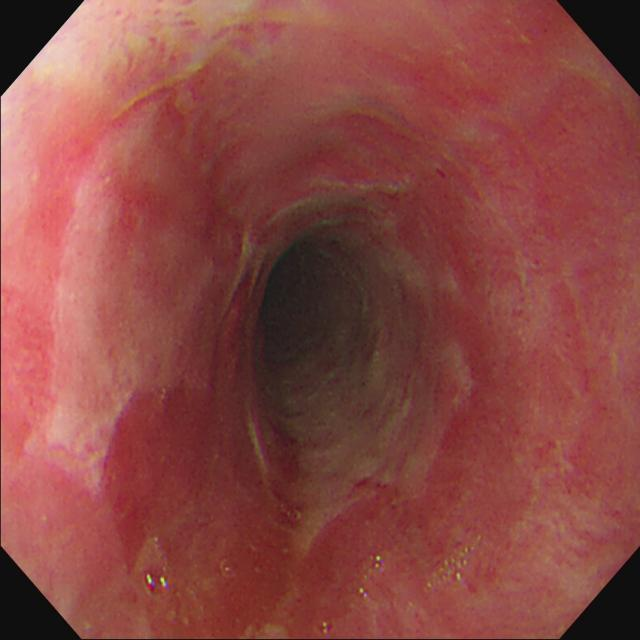A: (473, 170, 640, 640), (107, 388, 301, 640), (302, 471, 471, 640), (112, 84, 257, 259), (110, 2, 213, 85)
